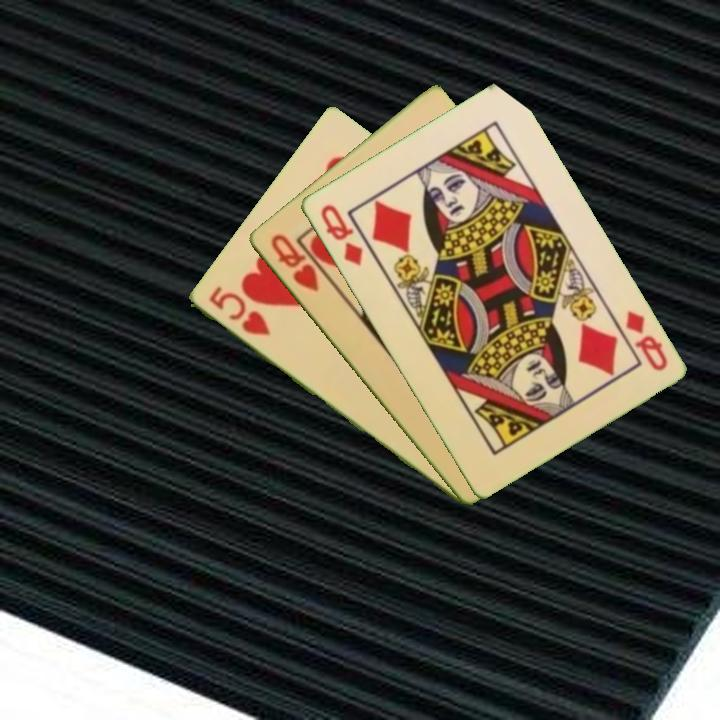5h: (204, 283, 273, 339)
Qd: (316, 200, 366, 269), (621, 307, 670, 374)
Qh: (266, 230, 321, 295)
